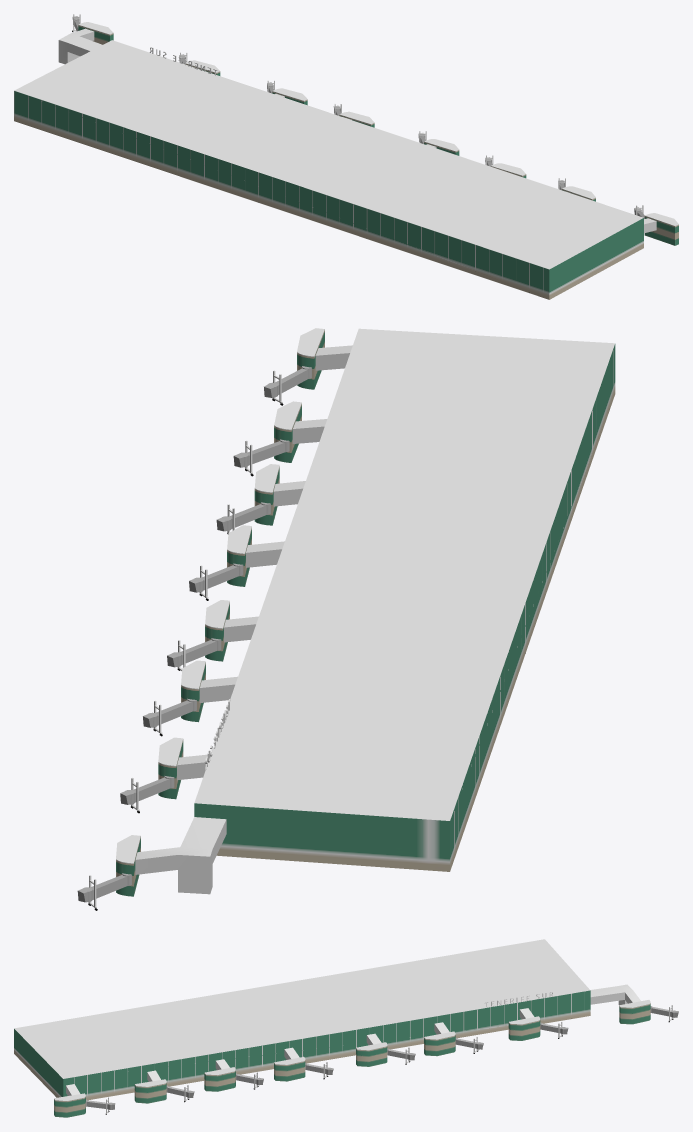
File: TFSAirport.glb
The picture shows the model from 3 angles, top to bottom: view 1: azimuth 30°, elevation 25°; view 2: azimuth 150°, elevation 25°; view 3: azimuth 270°, elevation 25°; orthographic projection. The views are drawn at different scales.
Visible parts, largest first — view 1: Buffer Object 53, Buffer Object 52, Buffer Object 56, Buffer Object 54; view 2: Buffer Object 53, Buffer Object 52, Buffer Object 56; view 3: Buffer Object 53, Buffer Object 52, Buffer Object 54 (×8), Buffer Object 56.
Part boxes in pixels (x1,y1,x2,y2): Buffer Object 53: [14, 40, 643, 269]; Buffer Object 52: [14, 91, 643, 299]; Buffer Object 56: [58, 28, 102, 64]; Buffer Object 54: [644, 216, 678, 245]; Buffer Object 53: [194, 328, 614, 820]; Buffer Object 52: [194, 344, 615, 871]; Buffer Object 56: [135, 817, 226, 894]; Buffer Object 53: [14, 939, 590, 1078]; Buffer Object 52: [14, 990, 590, 1100]; Buffer Object 54 (×8): [54, 1003, 650, 1117]; Buffer Object 56: [590, 984, 640, 1005].
Bounding box in the file's own units: 251 × 23.42 × 461.
Materials: 57 (8 with a texture image).
